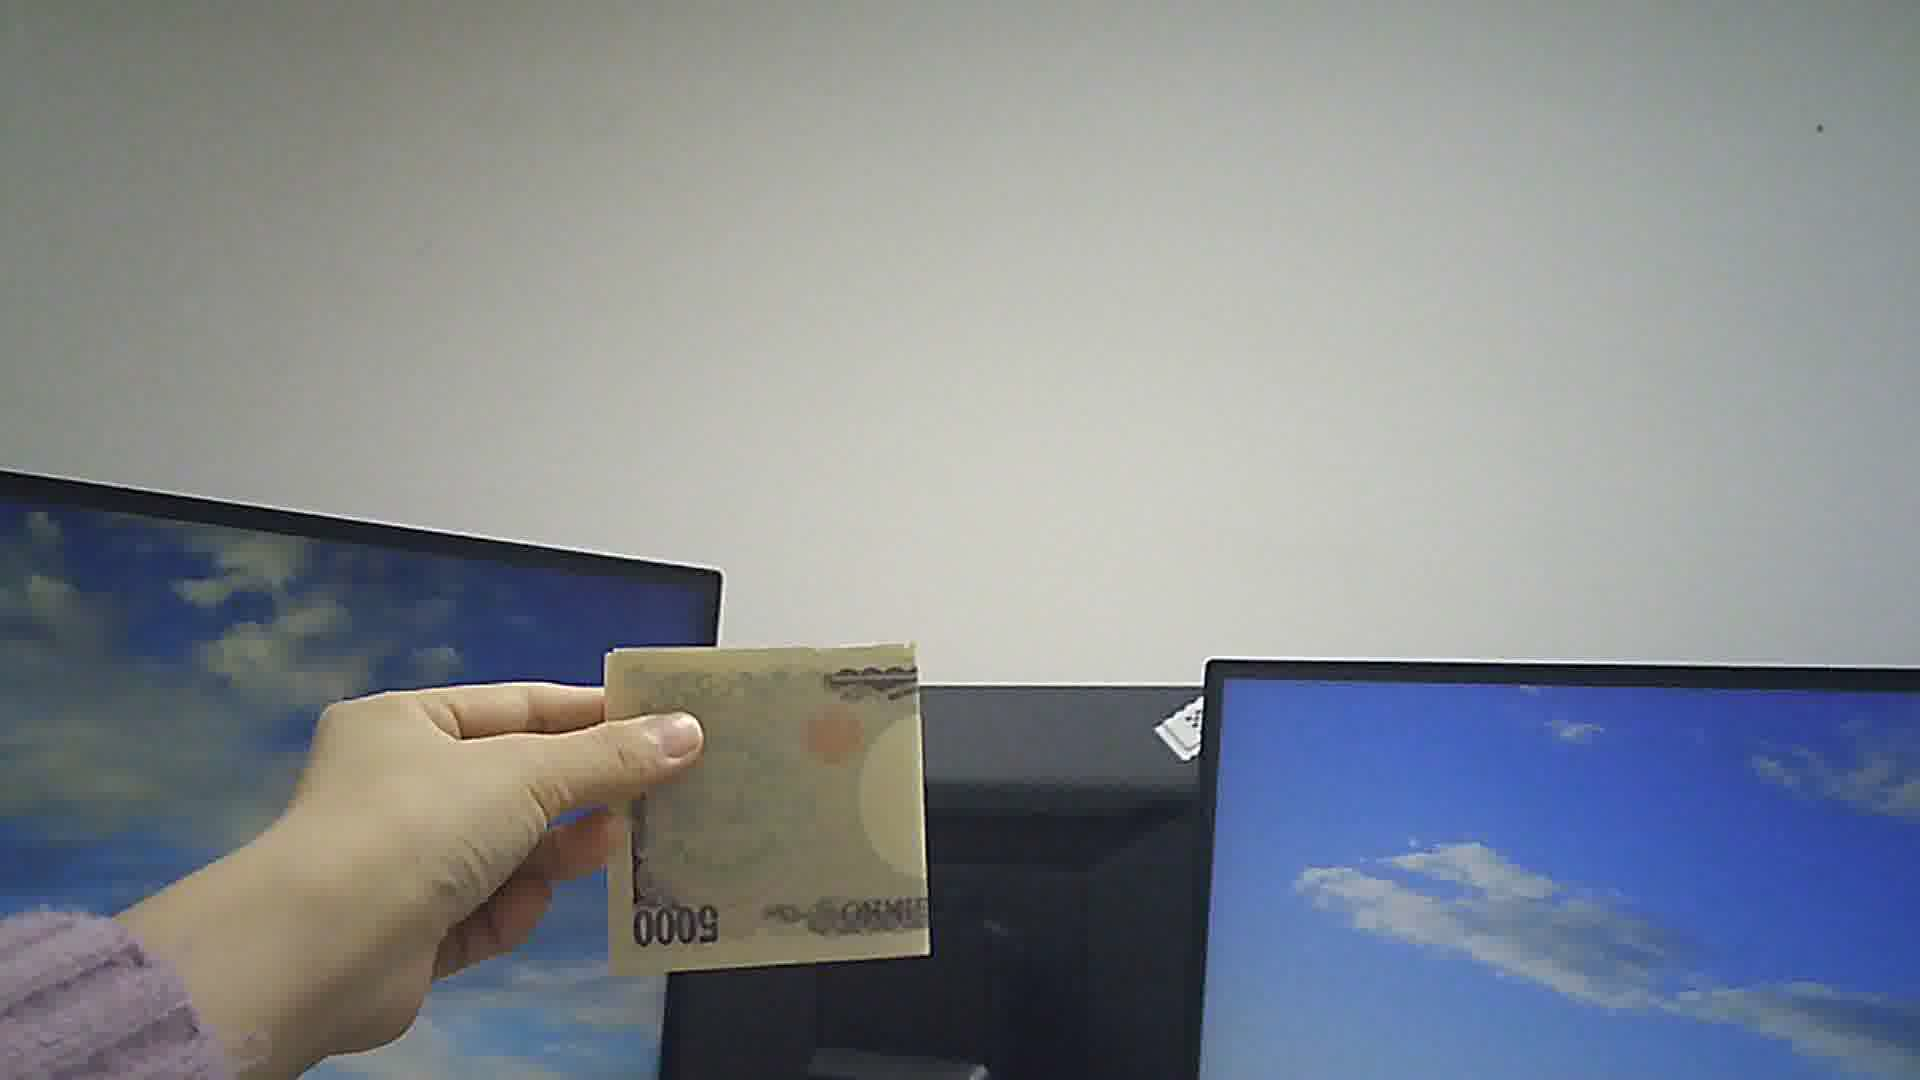5,000 Yen: (588, 630, 949, 988)
